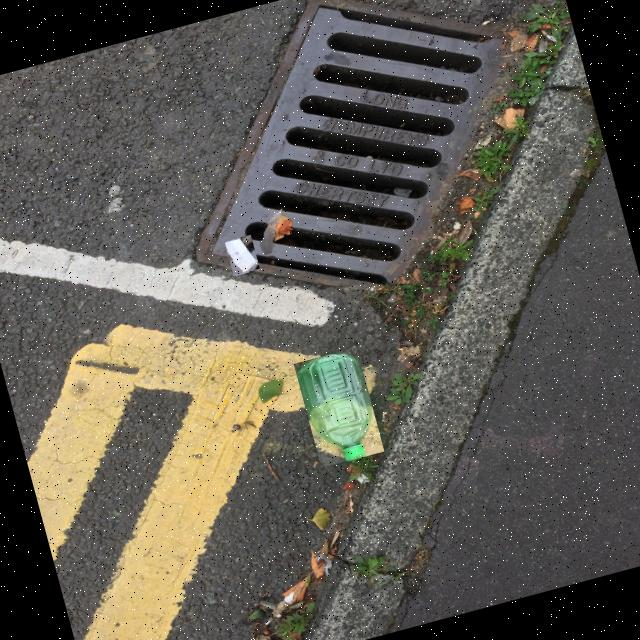Clear plastic bottle: (296, 355, 372, 460)
Normal paper: (225, 238, 257, 272)
